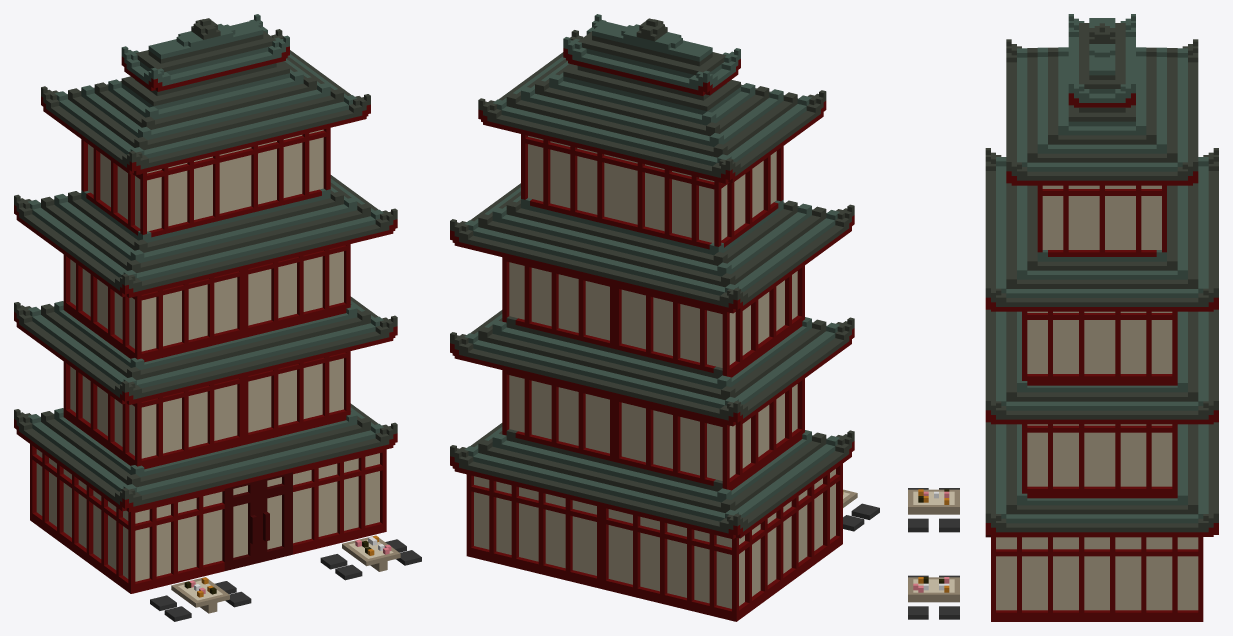
File: sushi2.obj
3 renders of one model, left to right at view 1: azimuth 30°, elevation 25°; view 2: azimuth 150°, elevation 25°; view 3: azimuth 270°, elevation 25°, orthographic. The views are drawn at different scales.
Parts seen in each view (by area): view 1: sushi2; view 2: sushi2; view 3: sushi2.
Part boxes in pixels (<box>): sushi2: <box>14,14,421,621</box>; sushi2: <box>450,14,879,621</box>; sushi2: <box>908,14,1218,621</box>.
Bounding box in the file's own units: 64 × 113 × 60.
Materials: 1 (1 with a texture image).
